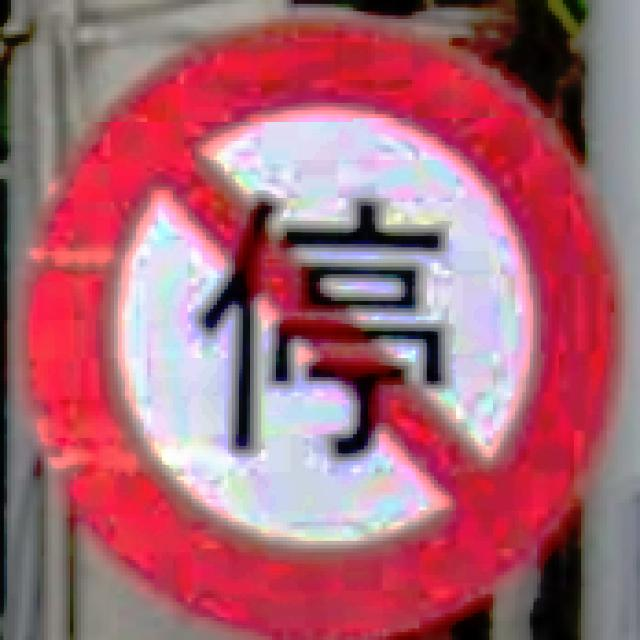nopark: (8, 8, 626, 636)
